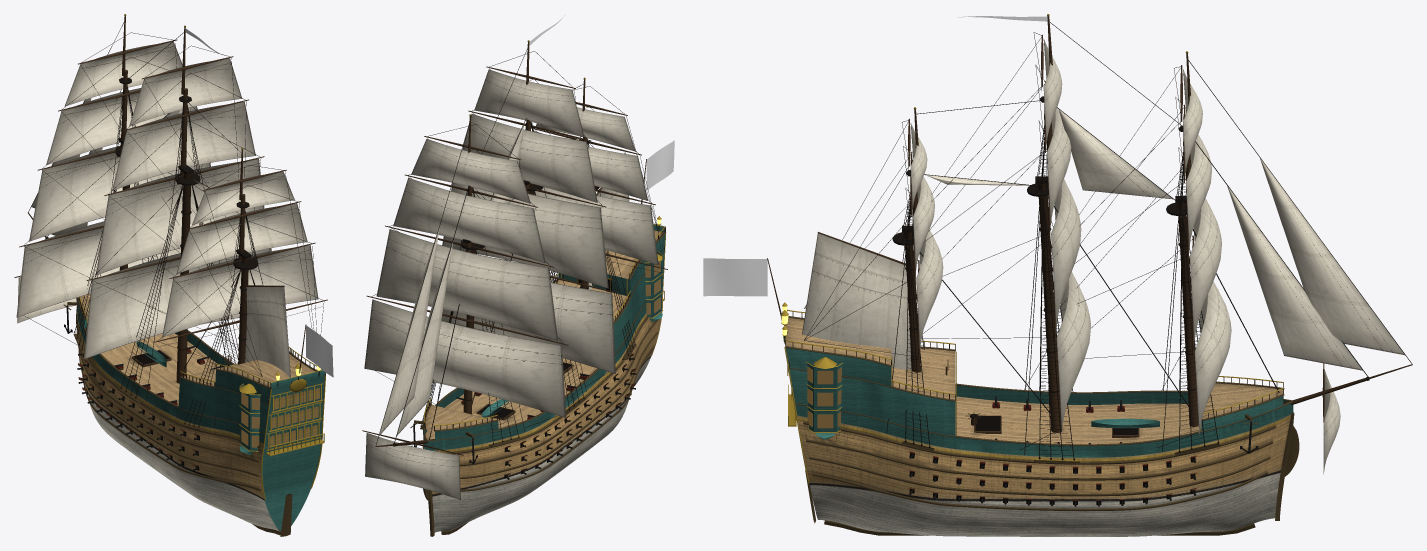
Rendered from manowar.gltf.
3 views of the same model, side by side, from view 1: azimuth 30°, elevation 25°; view 2: azimuth 150°, elevation 25°; view 3: azimuth 270°, elevation 25° (orthographic). The views are drawn at different scales.
Parts seen in each view (by area): view 1: Hull, Sail_1_1_E, Sail_1_2, Sail_2_1, Sail_1_0, Sail_0_0, Sail_0_1_E, Sail_2_2, Sail_1_3, Sail_0_2, Sail_0_3, Sail_spanker (+3 smaller); view 2: Hull, Sail_0_0, Sail_0_1_E, Sail_0_2, Sail_1_1_E, Sail_1_2, Sail_1_0, Sail_1_3, Sail_0_3, Sail_sprit, Sail_2_1, Sail_jib_1 (+5 smaller); view 3: Hull, Sail_spanker, Sail_jib_1, Sail_jib_0, Sail_stay_1, Sail_0_0, Sail_1_0, Sail_0_1_E, Sail_1_1_E, Flag, Sail_2_1, Sail_0_2 (+5 smaller).
Boxes of the visible parts, bbox=[...] form: Hull: bbox=[14, 14, 327, 536]; Sail_1_1_E: bbox=[96, 159, 264, 275]; Sail_1_2: bbox=[112, 101, 255, 190]; Sail_2_1: bbox=[162, 245, 318, 337]; Sail_1_0: bbox=[84, 248, 271, 359]; Sail_0_0: bbox=[16, 221, 180, 317]; Sail_0_1_E: bbox=[29, 145, 210, 241]; Sail_2_2: bbox=[176, 203, 307, 273]; Sail_1_3: bbox=[129, 58, 241, 125]; Sail_0_2: bbox=[46, 88, 197, 164]; Sail_0_3: bbox=[64, 41, 182, 106]; Sail_spanker: bbox=[245, 286, 290, 377]; Hull: bbox=[362, 40, 667, 536]; Sail_0_0: bbox=[364, 299, 565, 417]; Sail_0_1_E: bbox=[376, 229, 557, 340]; Sail_0_2: bbox=[393, 177, 545, 263]; Sail_1_1_E: bbox=[442, 183, 608, 288]; Sail_1_2: bbox=[462, 114, 597, 202]; Sail_1_0: bbox=[441, 282, 615, 373]; Sail_1_3: bbox=[474, 69, 584, 136]; Sail_0_3: bbox=[411, 139, 530, 203]; Sail_sprit: bbox=[365, 433, 460, 499]; Sail_2_1: bbox=[534, 187, 658, 265]; Sail_jib_1: bbox=[379, 227, 439, 435]; Hull: bbox=[767, 14, 1412, 536]; Sail_spanker: bbox=[802, 233, 915, 369]; Sail_jib_1: bbox=[1259, 157, 1404, 355]; Sail_jib_0: bbox=[1227, 185, 1362, 370]; Sail_stay_1: bbox=[1058, 109, 1172, 199]; Sail_0_0: bbox=[1194, 281, 1231, 436]; Sail_1_0: bbox=[1056, 272, 1090, 431]; Sail_0_1_E: bbox=[1189, 198, 1221, 343]; Sail_1_1_E: bbox=[1051, 179, 1081, 329]; Flag: bbox=[703, 258, 767, 296]; Sail_2_1: bbox=[916, 229, 943, 349]; Sail_0_2: bbox=[1186, 134, 1211, 248].
Size of the model in its own units: 32.01 by 66.41 by 81.87.
Materials: 18 (4 with a texture image).
